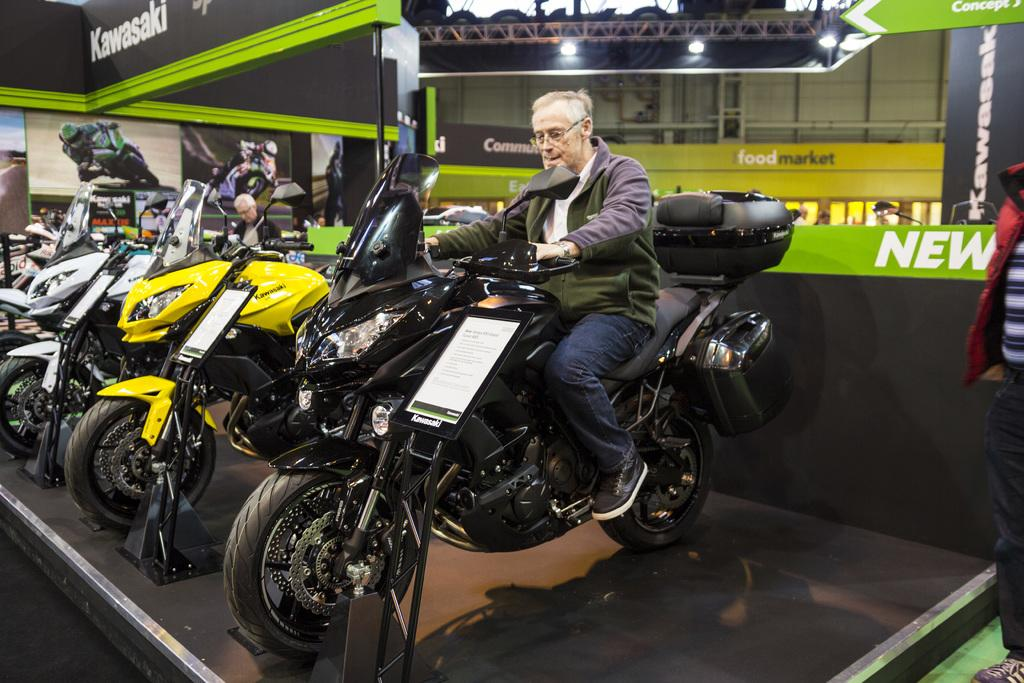helmet: (58, 122, 83, 149)
nohelmet: (530, 90, 595, 178), (233, 193, 257, 224)
